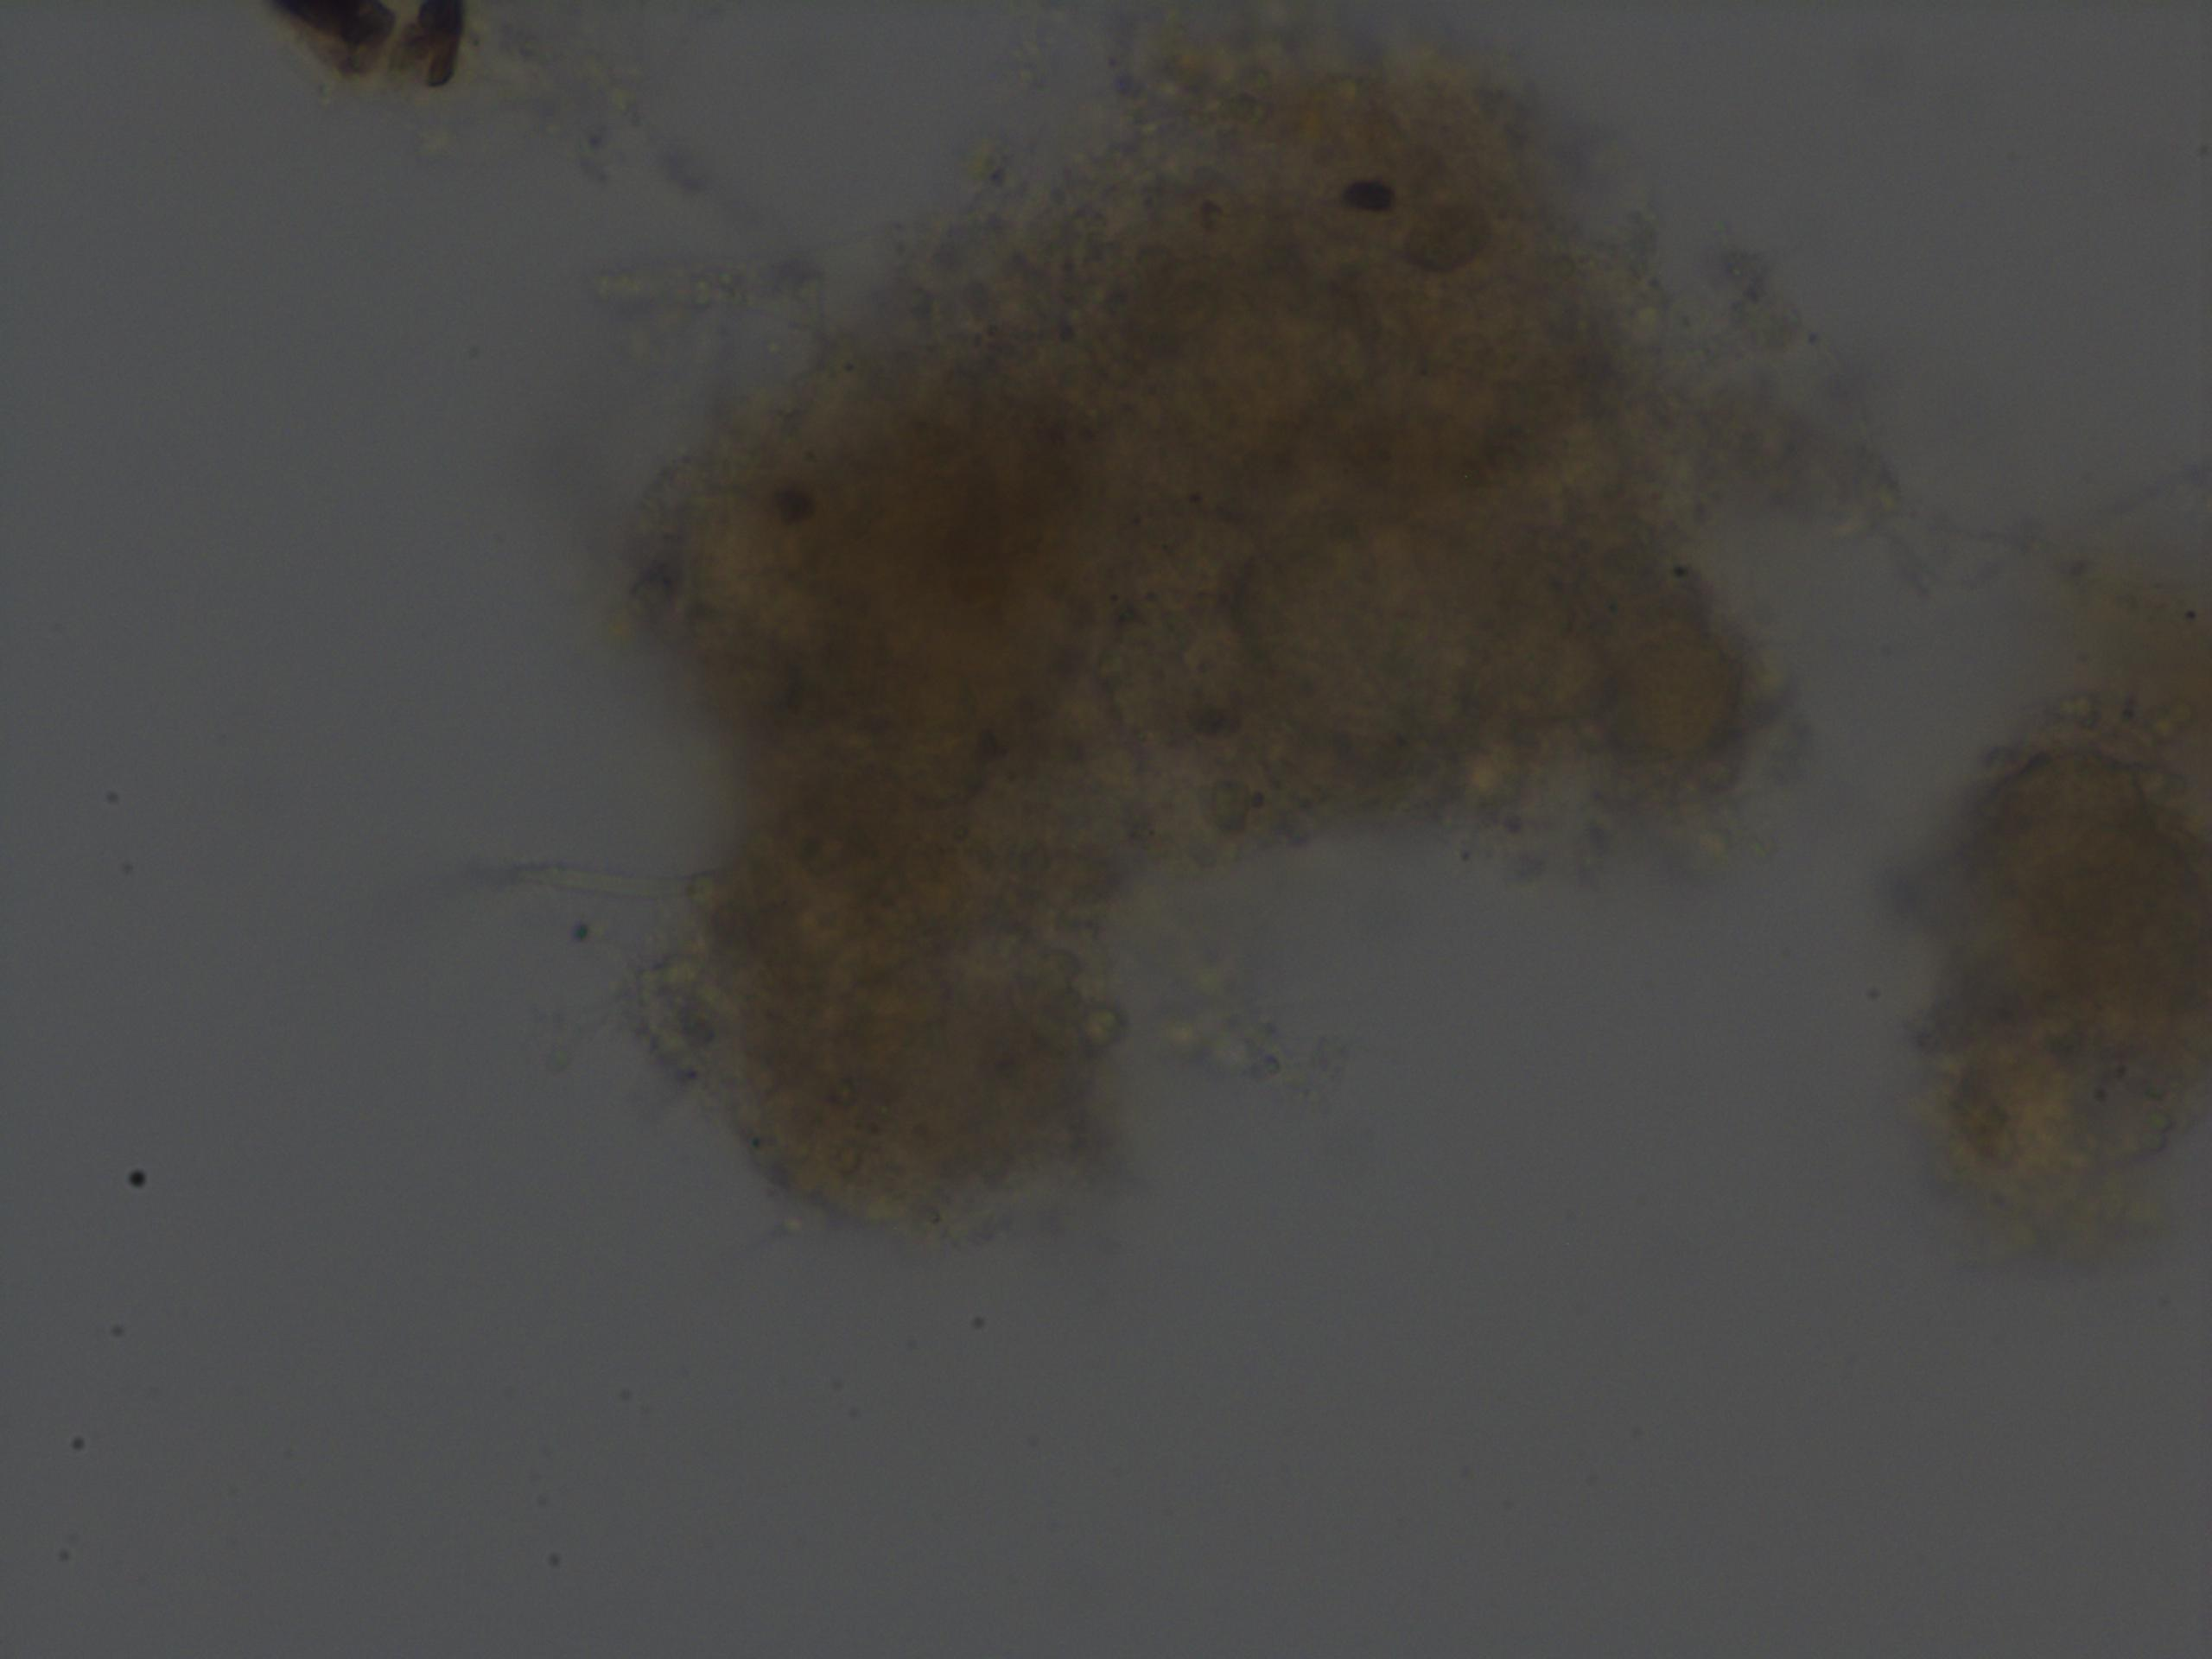spherical_floc: (615, 7, 1797, 1262)
